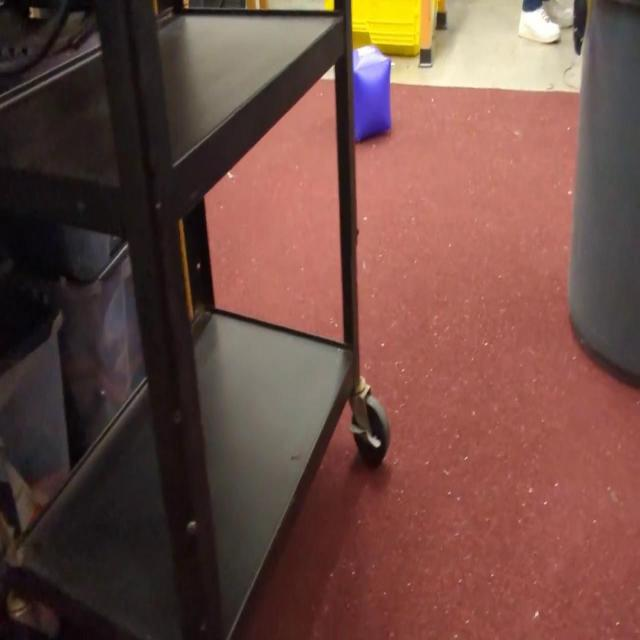frc_cube: (352, 44, 390, 145)
